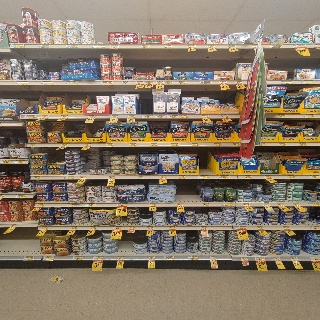All PRICE TAGS: (100, 81, 113, 85), (301, 80, 314, 84), (293, 44, 306, 48), (24, 255, 34, 260), (310, 256, 320, 261), (308, 203, 320, 207), (303, 114, 315, 118), (281, 80, 293, 84), (25, 143, 37, 147), (198, 175, 209, 179), (14, 160, 25, 164), (309, 226, 320, 230), (309, 175, 320, 179), (155, 114, 166, 118), (142, 114, 153, 118), (37, 45, 51, 48), (219, 175, 229, 179), (44, 256, 54, 260), (73, 256, 83, 260), (290, 256, 298, 261), (16, 194, 26, 198), (168, 114, 178, 118), (12, 44, 25, 47), (66, 45, 79, 48), (16, 81, 29, 84), (113, 226, 122, 230), (94, 256, 103, 260), (165, 256, 174, 260), (189, 256, 198, 260), (254, 257, 266, 260), (278, 142, 287, 146), (94, 45, 105, 48), (42, 81, 53, 84), (108, 175, 116, 179), (159, 175, 167, 179), (200, 226, 208, 230), (117, 256, 125, 260), (209, 256, 217, 260), (292, 202, 300, 206), (244, 175, 252, 179), (288, 175, 296, 179), (299, 142, 307, 146), (164, 45, 172, 49), (136, 81, 144, 85), (180, 114, 188, 118), (201, 114, 209, 118), (65, 176, 75, 179), (86, 203, 96, 206), (118, 203, 128, 206), (236, 226, 246, 229), (252, 44, 258, 49), (67, 81, 77, 84), (201, 81, 211, 84), (80, 175, 87, 179), (137, 175, 144, 179), (178, 175, 185, 179), (89, 226, 96, 230), (169, 226, 176, 230), (148, 256, 155, 260), (264, 175, 271, 179), (259, 142, 266, 146), (279, 114, 286, 118), (128, 115, 135, 119), (221, 114, 228, 118), (33, 176, 42, 179), (222, 203, 231, 206), (39, 226, 48, 229), (3, 160, 12, 163), (110, 45, 119, 48), (141, 45, 150, 48), (187, 45, 196, 48), (207, 45, 216, 48), (28, 115, 37, 118), (106, 143, 114, 146), (128, 143, 136, 146), (191, 143, 199, 146), (149, 203, 157, 206), (176, 203, 184, 206), (128, 226, 136, 229), (273, 257, 281, 260), (240, 257, 248, 260), (242, 203, 250, 206), (202, 203, 210, 206), (38, 203, 44, 207), (229, 45, 237, 48), (122, 81, 130, 84), (156, 81, 164, 84), (178, 81, 186, 84), (220, 81, 228, 84), (236, 81, 244, 84), (40, 115, 48, 118), (61, 115, 69, 118), (87, 115, 95, 118), (110, 115, 118, 118), (61, 143, 69, 146), (150, 143, 157, 146), (171, 143, 178, 146), (214, 143, 221, 146), (233, 143, 240, 146), (70, 226, 77, 229), (147, 226, 154, 229), (10, 224, 17, 227), (283, 226, 290, 229), (257, 226, 264, 229), (263, 203, 270, 206), (67, 204, 74, 207), (165, 81, 172, 84), (146, 81, 153, 84), (84, 143, 91, 146), (277, 203, 283, 206)
